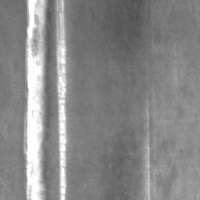scratches: (21, 1, 58, 200), (55, 1, 67, 200), (140, 91, 154, 200)
